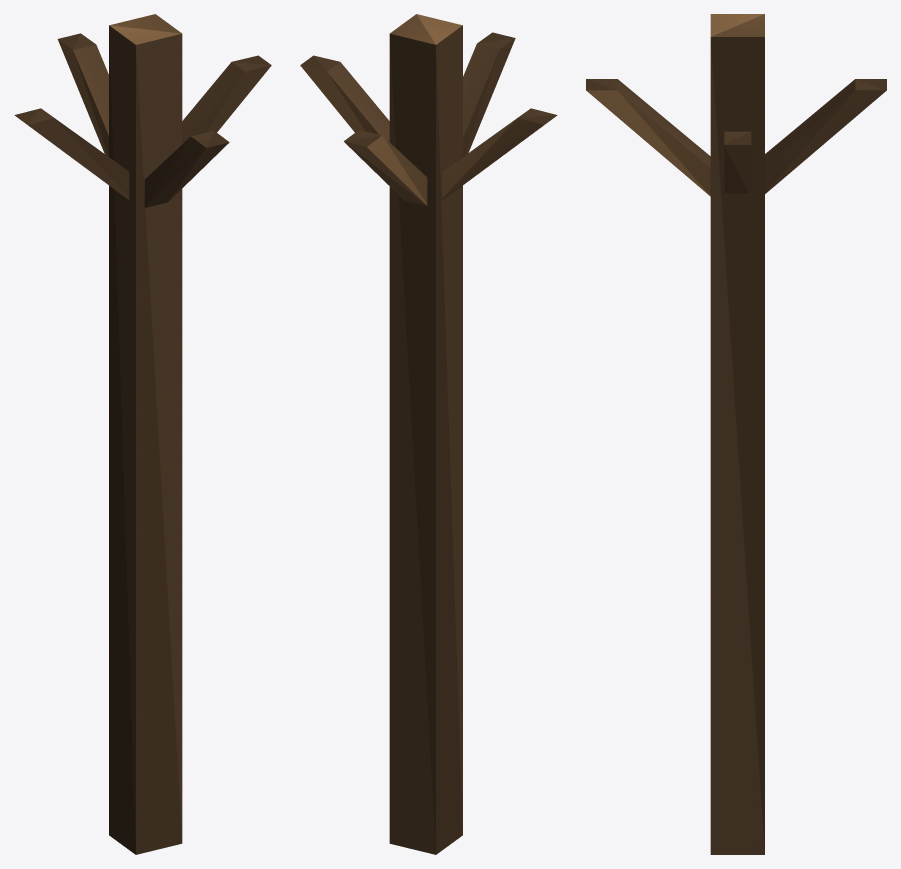
File: Wood_3A_Lod1.fbx
3 renders of one model, left to right at view 1: azimuth 30°, elevation 25°; view 2: azimuth 150°, elevation 25°; view 3: azimuth 270°, elevation 25°, orthographic.
Parts seen in each view (by area): view 1: polySurface1094; view 2: polySurface1094; view 3: polySurface1094.
Boxes of the visible parts, x1,y1,x2,y2 form: polySurface1094: (14,14,271,854); polySurface1094: (300,14,557,854); polySurface1094: (586,14,886,854).
Bounding box in the file's own units: 316 × 1000 × 333.
Materials: 1 (1 with a texture image).
